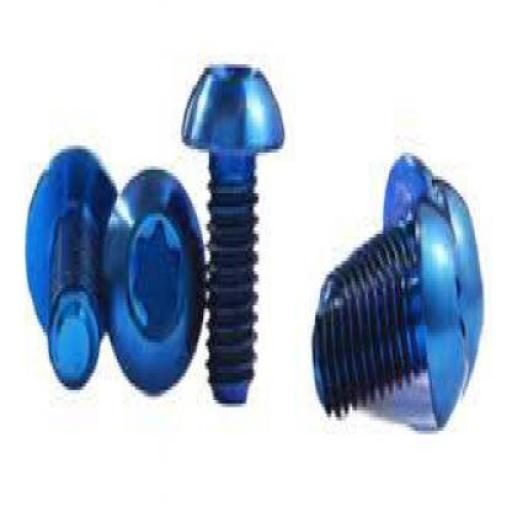Bolt: (310, 153, 485, 434), (180, 62, 286, 406), (99, 167, 205, 399), (25, 145, 121, 391)
